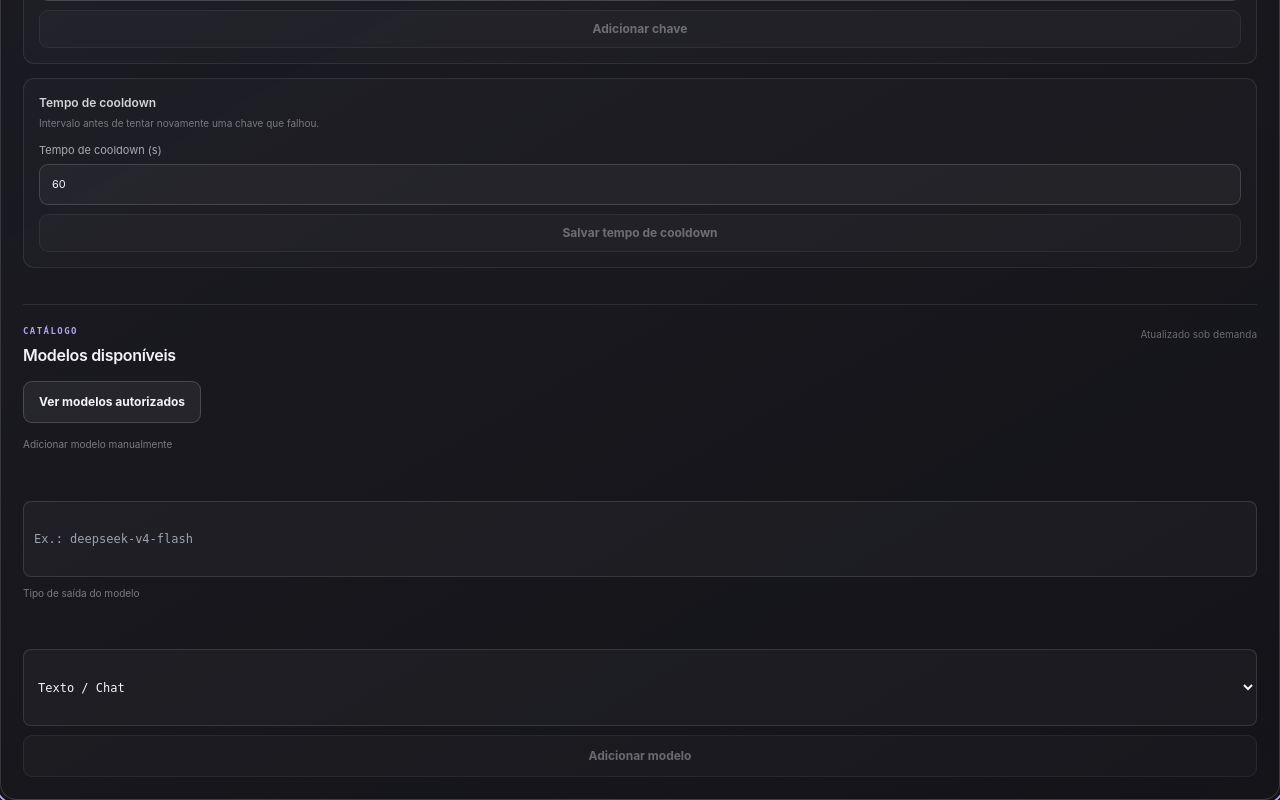
Media generation previews & UX metrics (Turn Duration + Overview USD Cost) › ProviderDetail supports adding custom models with an explicit output modality and shows modality badges
(page scrolled)
Check: the field labelled "Adicionar modelo manualmente" is shown, box [23, 501, 1257, 577]
Select "Imagem" in the dropdown labelled "Tipo de saída do modelo" at (640, 688), box [23, 649, 1257, 726]
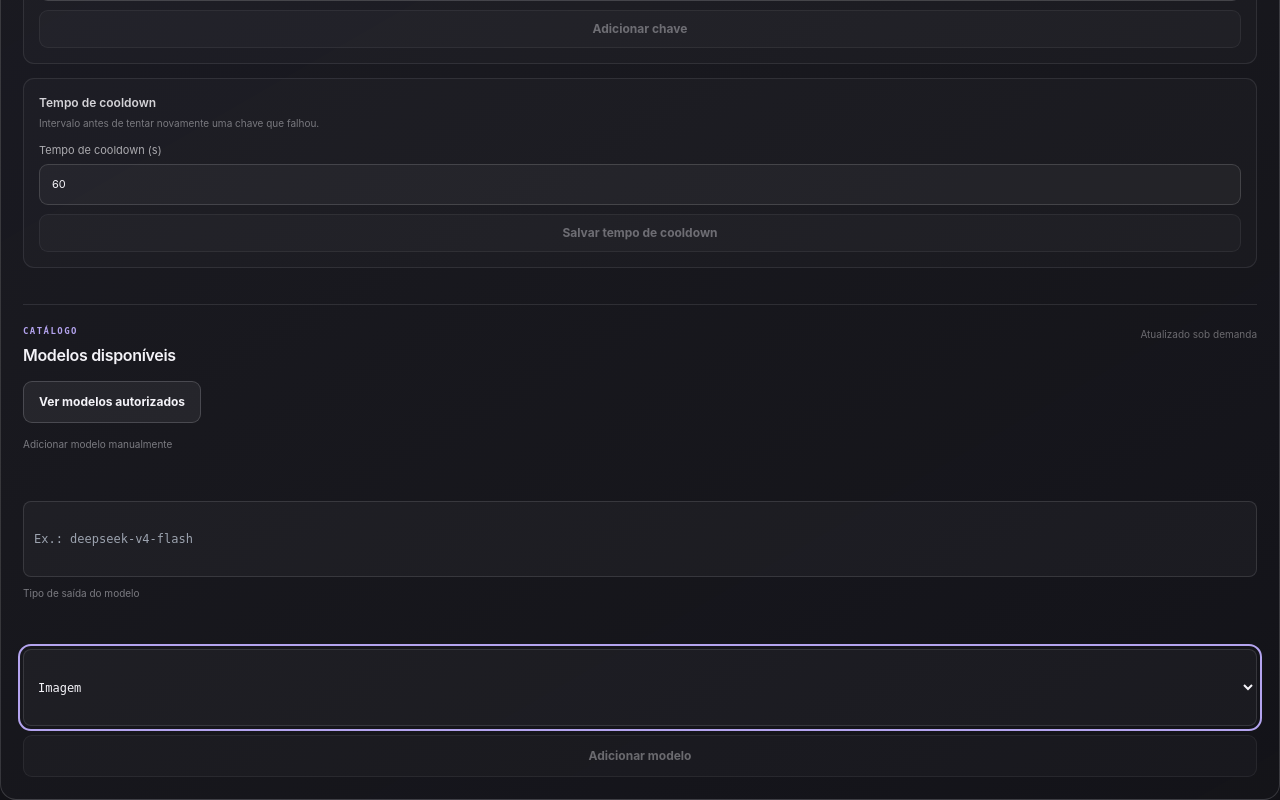
Type "custom-flux-pro" into the field labelled "Adicionar modelo manualmente" at (640, 539), box [23, 501, 1257, 577]
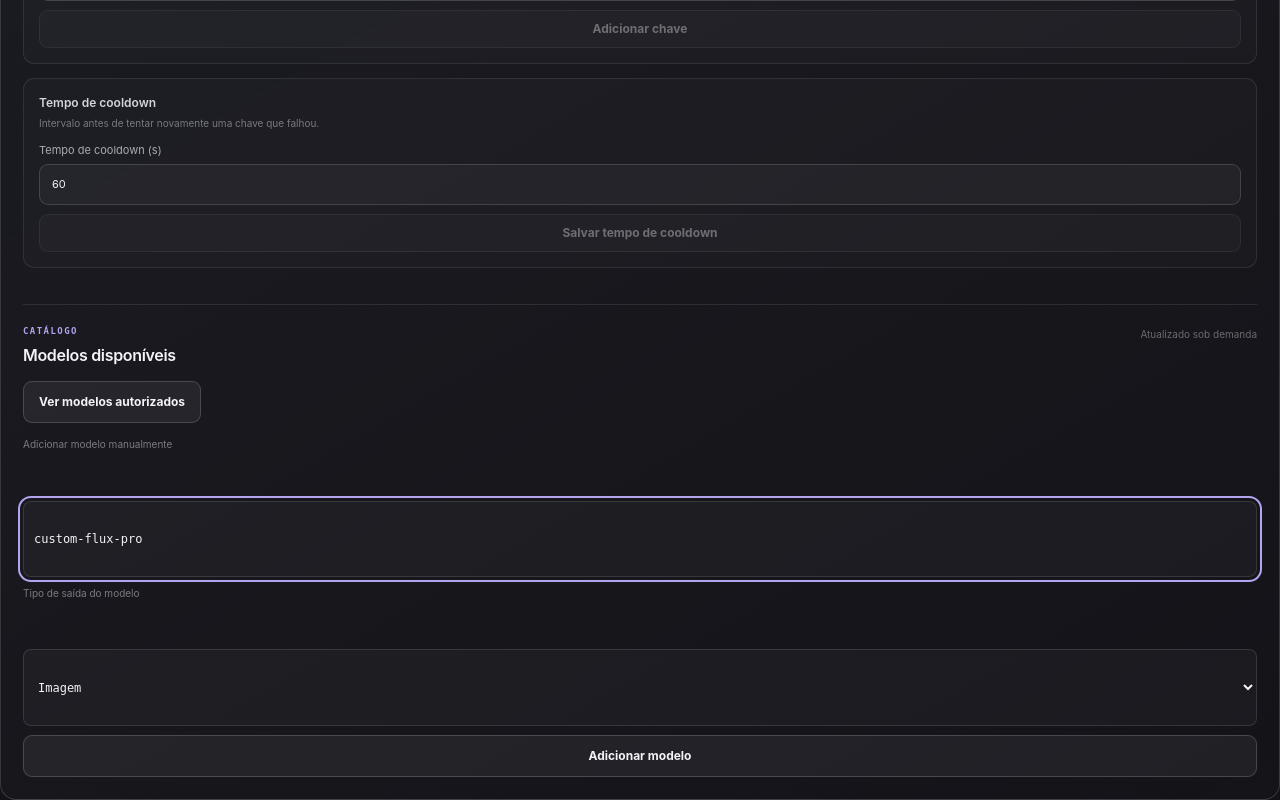
Click the button "Adicionar modelo" at (640, 756), box [23, 735, 1257, 777]
(page scrolled)
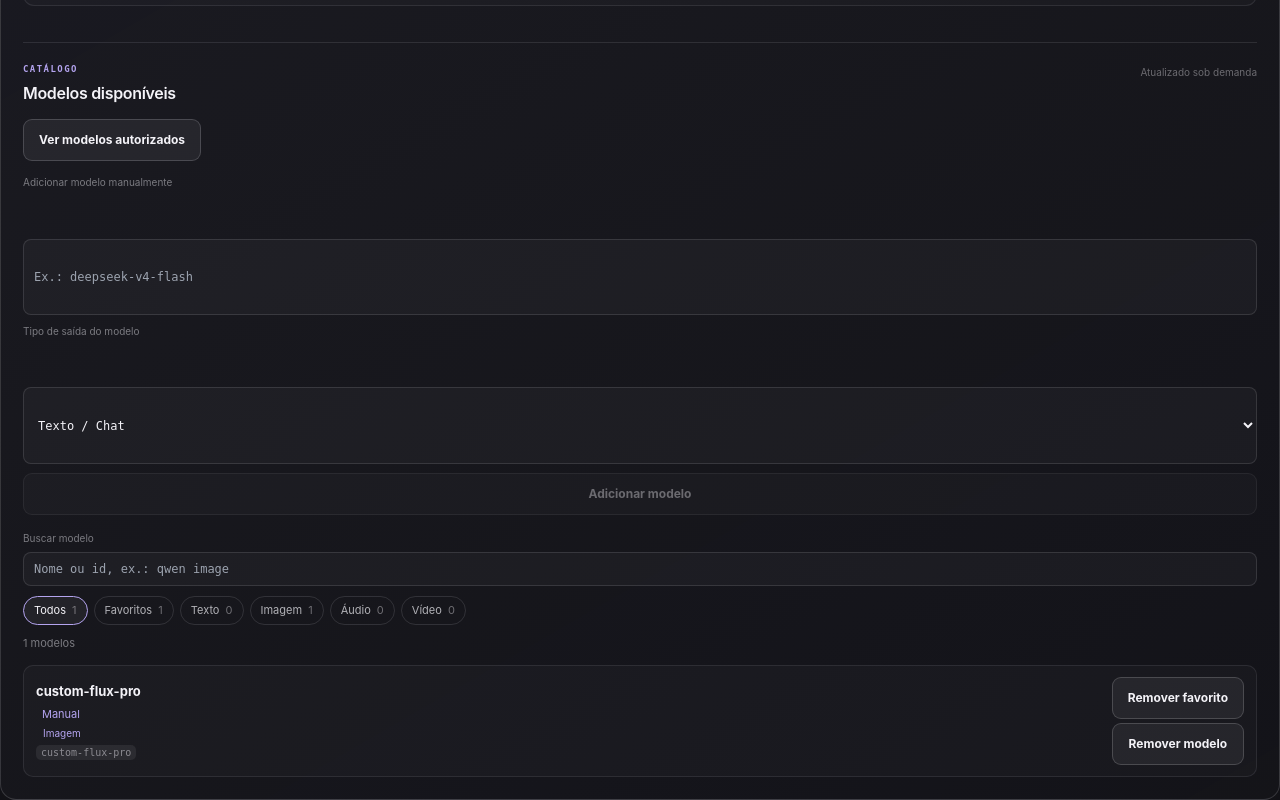
Check: the text "Imagem" is shown, box [43, 727, 81, 739]
